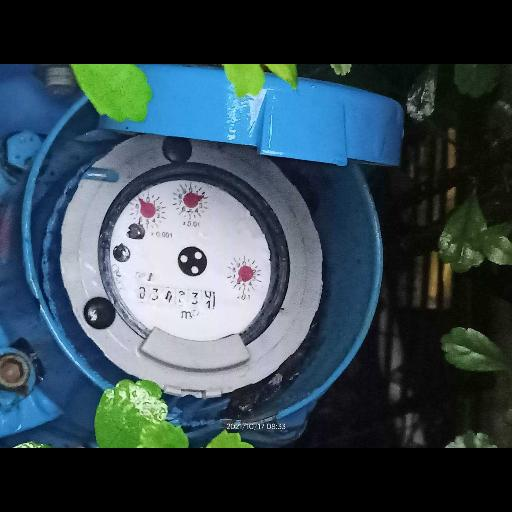0: (137, 286, 148, 304), (204, 290, 215, 308)
2: (178, 289, 189, 307)
3: (190, 291, 203, 308), (149, 286, 161, 304)
4: (161, 288, 176, 305)
border_water_meter_number: (136, 283, 217, 311)
